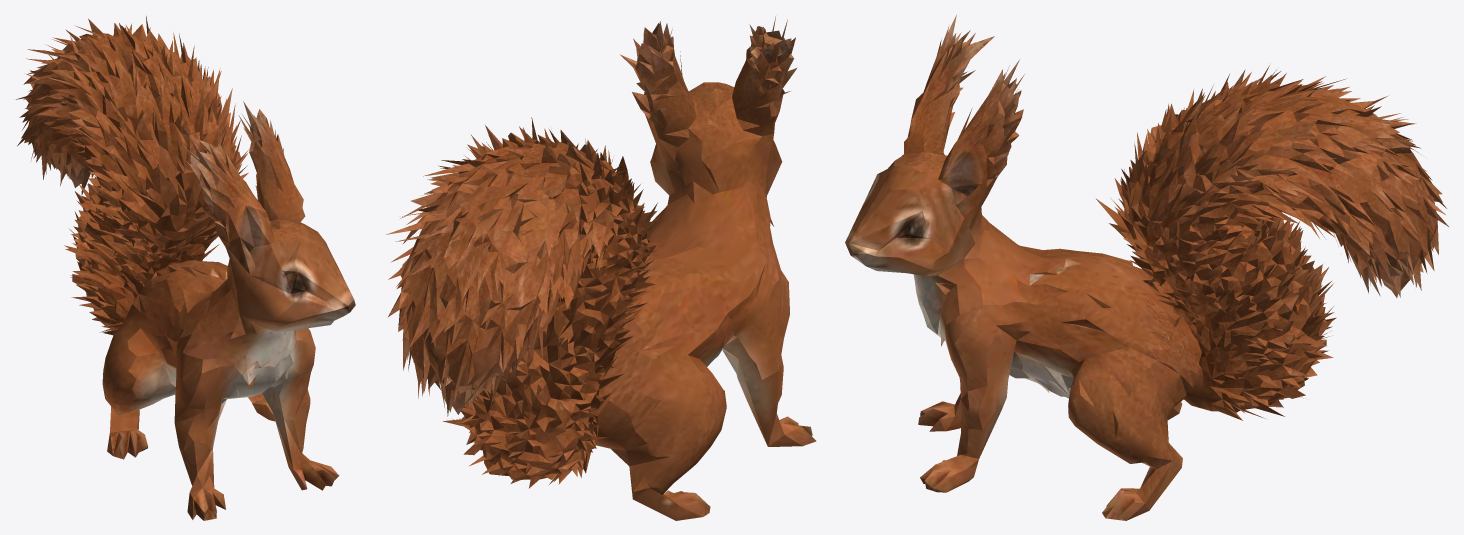
File: sincap.glb
The picture shows the model from 3 angles, left to right: view 1: azimuth 30°, elevation 25°; view 2: azimuth 150°, elevation 25°; view 3: azimuth 270°, elevation 25°; orthographic projection. The views are drawn at different scales.
Parts seen in each view (by area): view 1: output_unwrapped; view 2: output_unwrapped; view 3: output_unwrapped.
Boxes of the visible parts, left/top/right/bottom form: output_unwrapped: left=16, top=16, right=355, bottom=520; output_unwrapped: left=385, top=16, right=816, bottom=520; output_unwrapped: left=845, top=15, right=1448, bottom=520.
Bounding box in the file's own units: 0.7388 × 1.34 × 1.8.
1 material, 1 textured.
